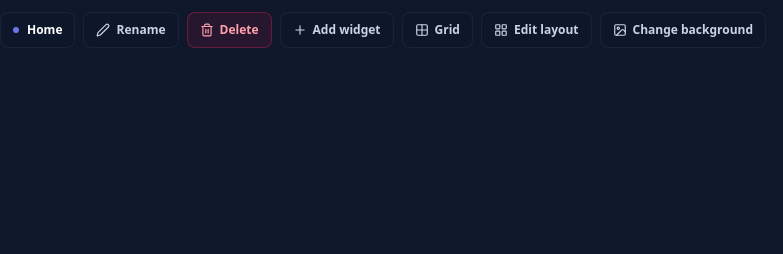
Test: DashboardHeader grid size › keeps the editor open and shows the server message when a resize is refused
Click the button "Grid". click: {"x": 437, "y": 30}
box: [402,12,473,48]
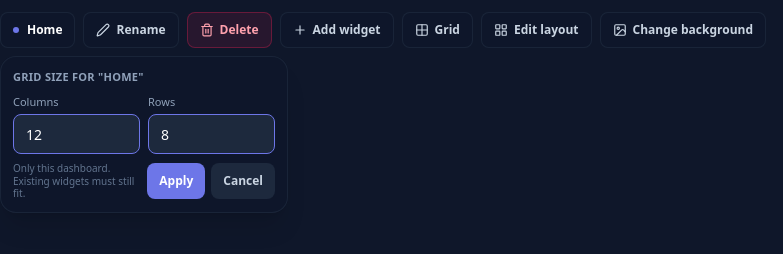
Click the button "Apply". click: {"x": 176, "y": 181}
box: [147,163,205,199]
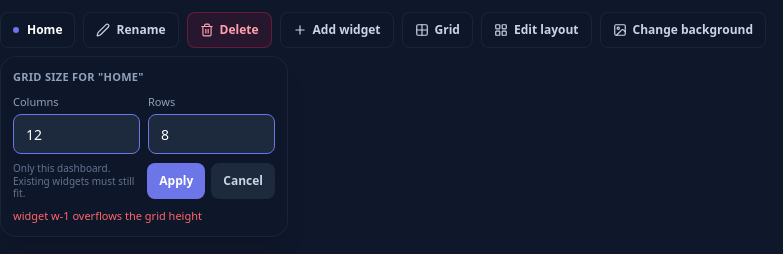
Now the number field labelled "Columns" is shown, box [13,114,140,154]
Now the text "widget w-1 overflows the grid height" is shown, box [13,208,202,222]
